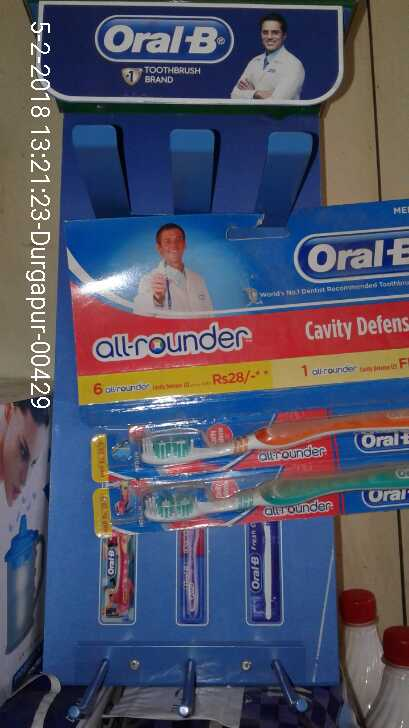oralb: (117, 464, 409, 529), (98, 405, 409, 465)
